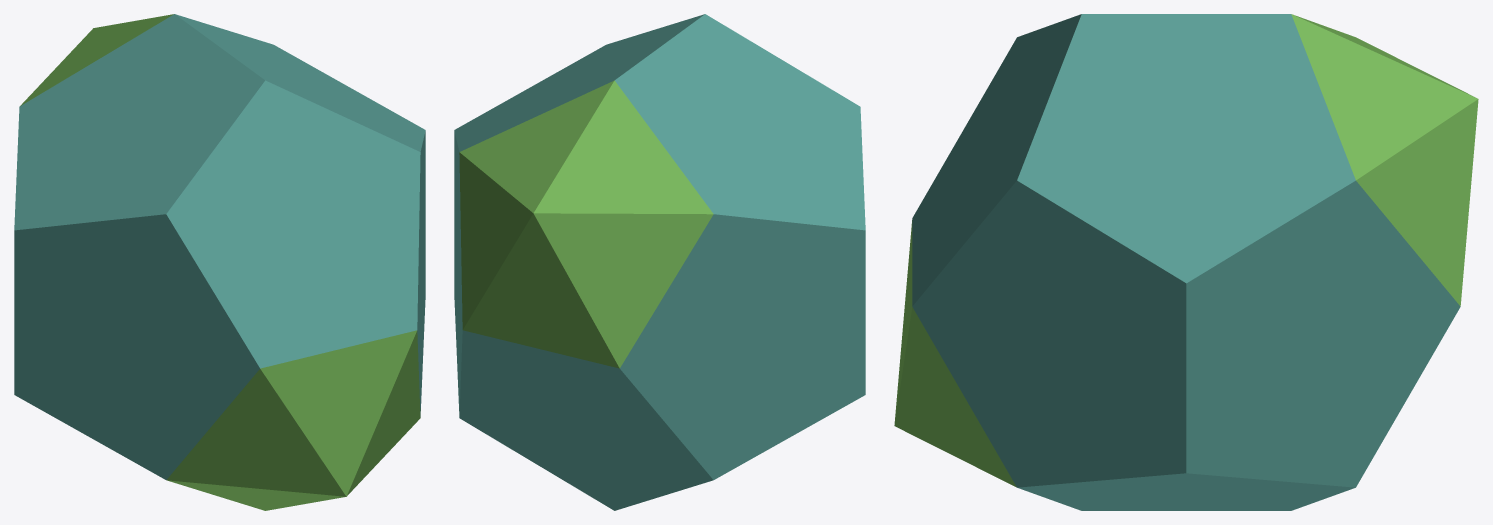
Rendered from J59.DodecaedroParabiaumentado.gltf.
3 renders of one model, left to right at view 1: azimuth 30°, elevation 25°; view 2: azimuth 150°, elevation 25°; view 3: azimuth 270°, elevation 25°, orthographic. The views are drawn at different scales.
Parts seen in each view (by area): view 1: J59.DodecaedroParabiaumentado; view 2: J59.DodecaedroParabiaumentado; view 3: J59.DodecaedroParabiaumentado.
Part boxes in pixels (x1=…): J59.DodecaedroParabiaumentado: x1=14, y1=14, x2=425, y2=510; J59.DodecaedroParabiaumentado: x1=454, y1=14, x2=865, y2=510; J59.DodecaedroParabiaumentado: x1=894, y1=14, x2=1478, y2=510.
Bounding box in the file's own units: 15.97 × 15.97 × 17.01.
